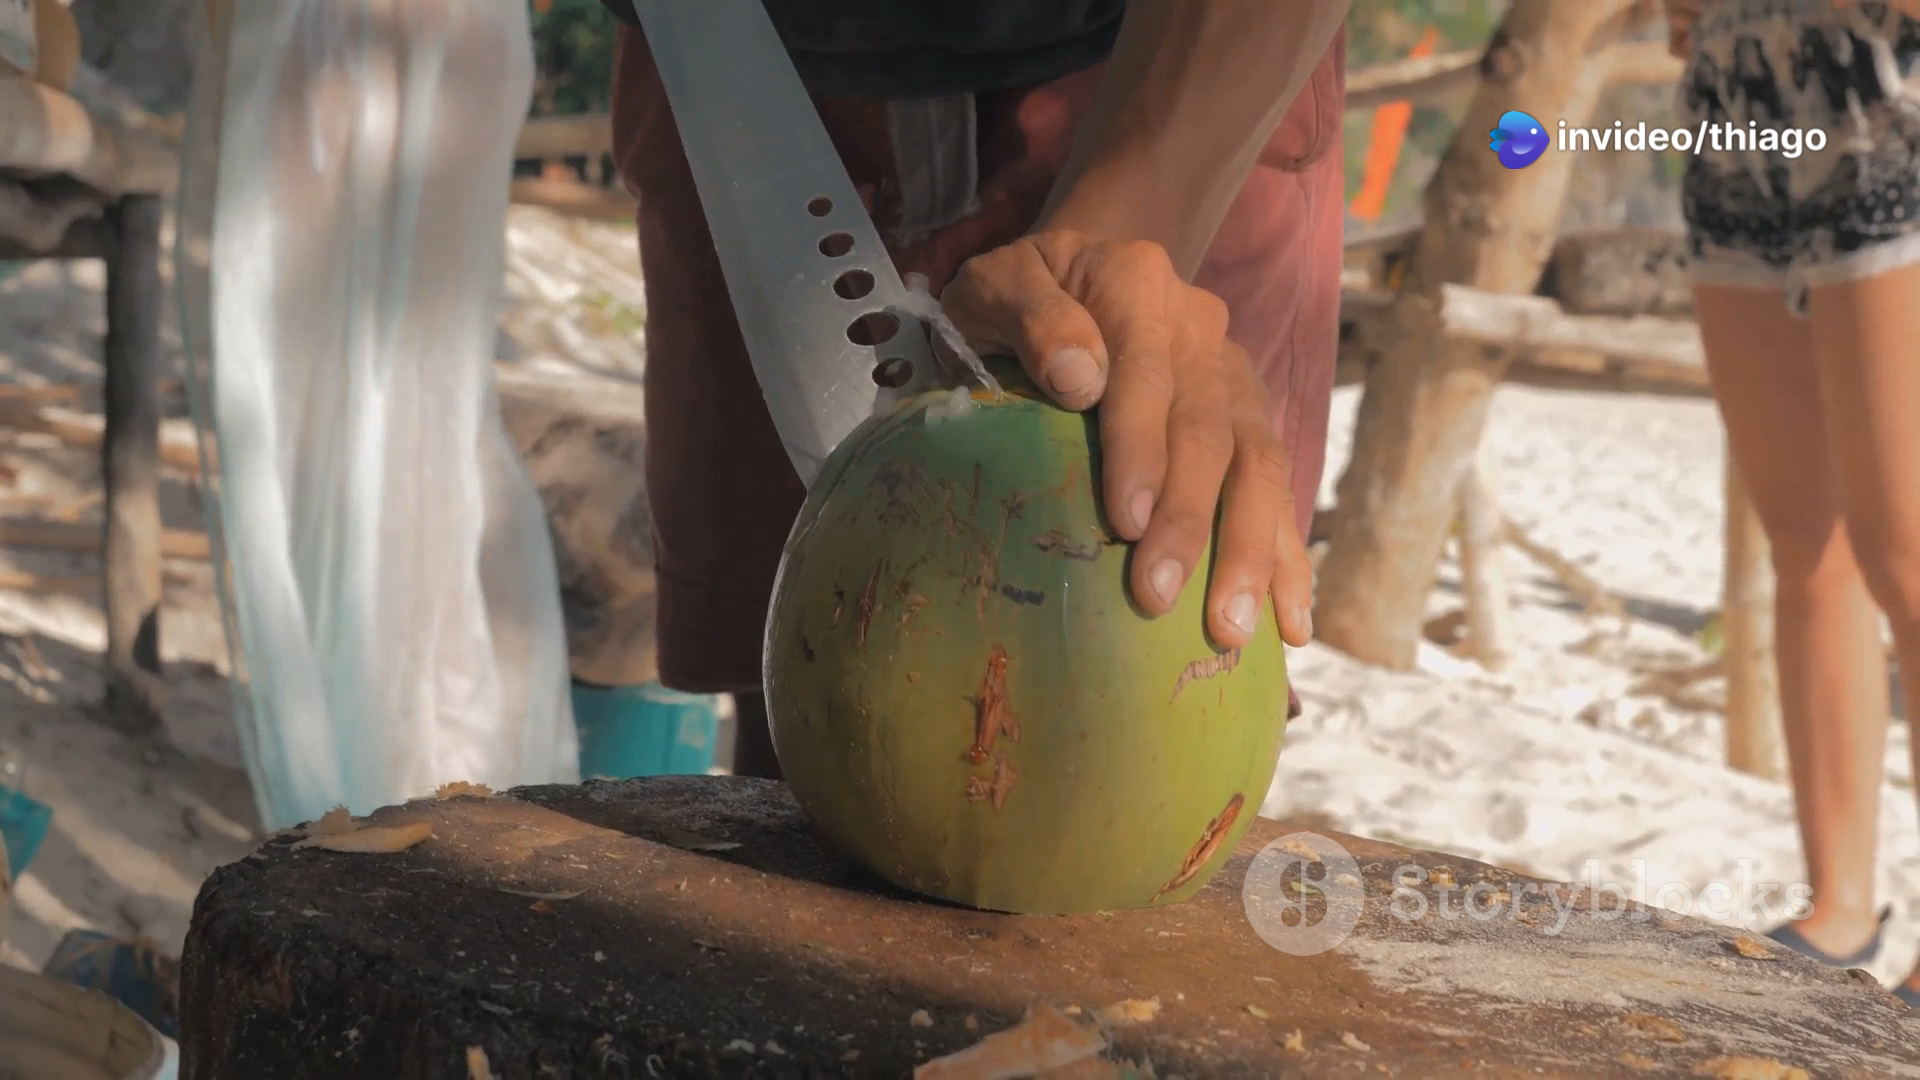cortante: (632, 0, 944, 495)
